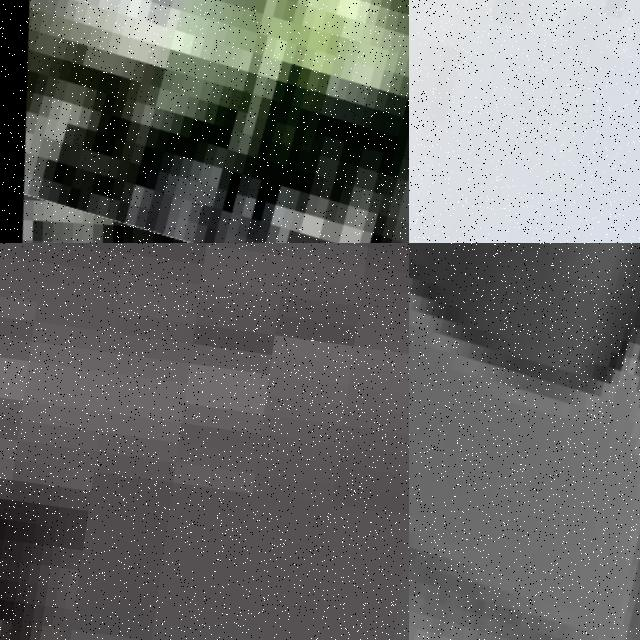drone: (0, 0, 409, 243), (409, 243, 640, 640), (409, 0, 640, 243)
